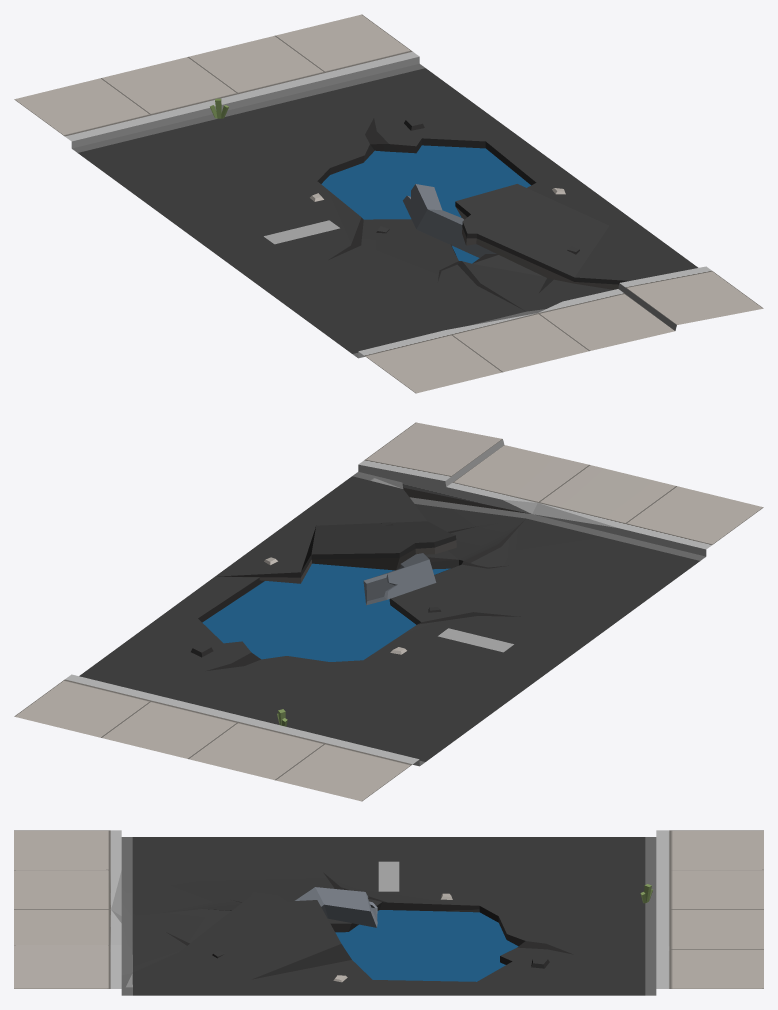
Rendered from SA_Env_RoadStraight_Damaged_03.gltf.
3 views of the same model, one above another, from view 1: azimuth 30°, elevation 25°; view 2: azimuth 150°, elevation 25°; view 3: azimuth 270°, elevation 25° (orthographic). The views are drawn at different scales.
Visible parts, largest first — view 1: SA_Env_RoadStraight_Damaged_03; view 2: SA_Env_RoadStraight_Damaged_03; view 3: SA_Env_RoadStraight_Damaged_03.
Part boxes in pixels (x1,y1,x2,y2): SA_Env_RoadStraight_Damaged_03: [14, 14, 763, 393]; SA_Env_RoadStraight_Damaged_03: [14, 422, 763, 801]; SA_Env_RoadStraight_Damaged_03: [14, 830, 763, 995].
Size of the model in its own units: 10 by 1.87 by 20.
Materials: 1 (1 with a texture image).
